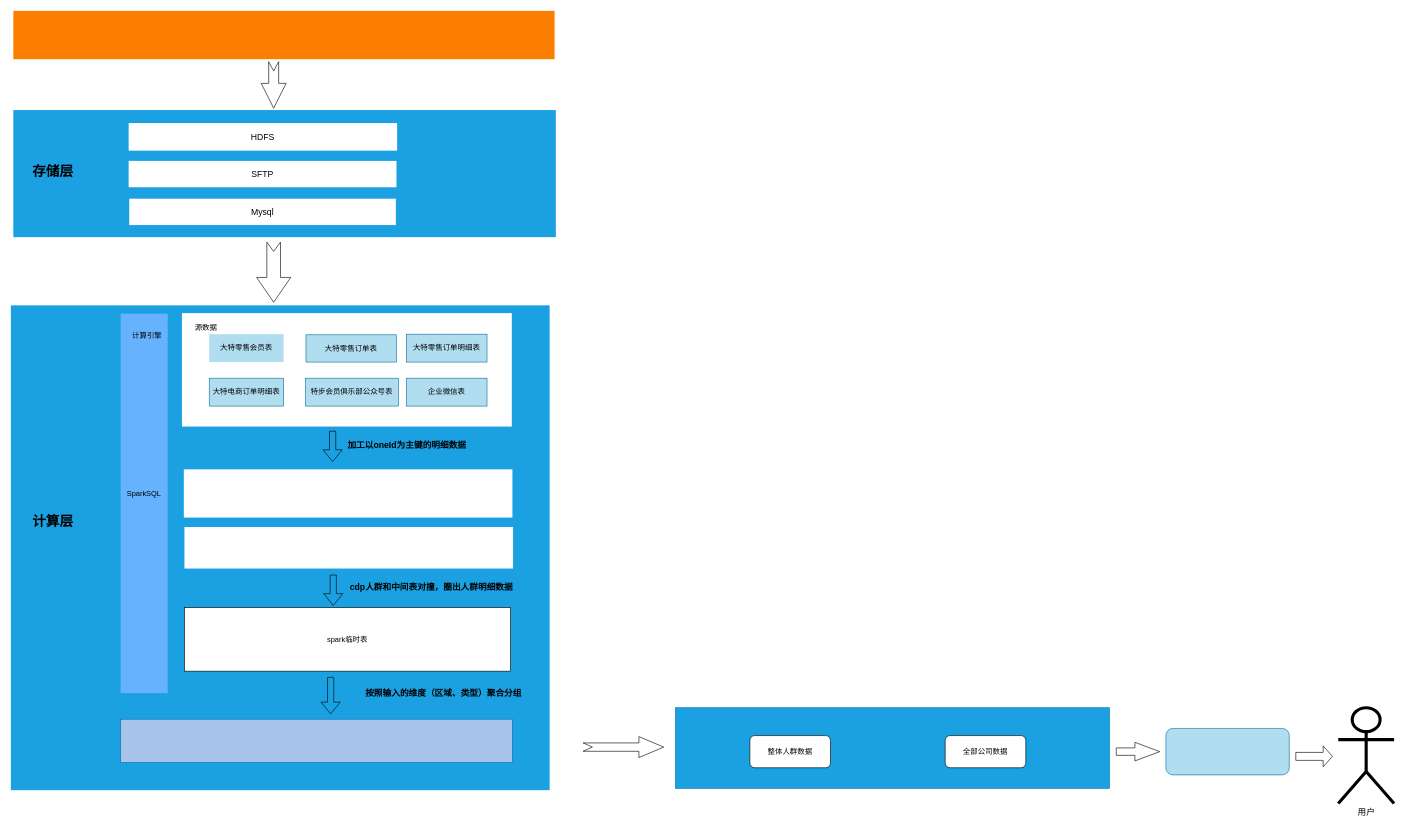
The diagram is 1406 pixels wide and 829 high, and some of its shapes have lost their labels. The box of each missing label's shape, as (x1, y1, x2, y2) in pixels:
MySql结果表: (120, 719, 512, 763)
web页面表格展示、Excele下载: (1165, 728, 1289, 775)
中间表: (184, 469, 512, 517)
加工非标准人群数据: (184, 527, 513, 568)
输入（触达类别、活动周期、购买渠道、人群）: (13, 11, 554, 59)
